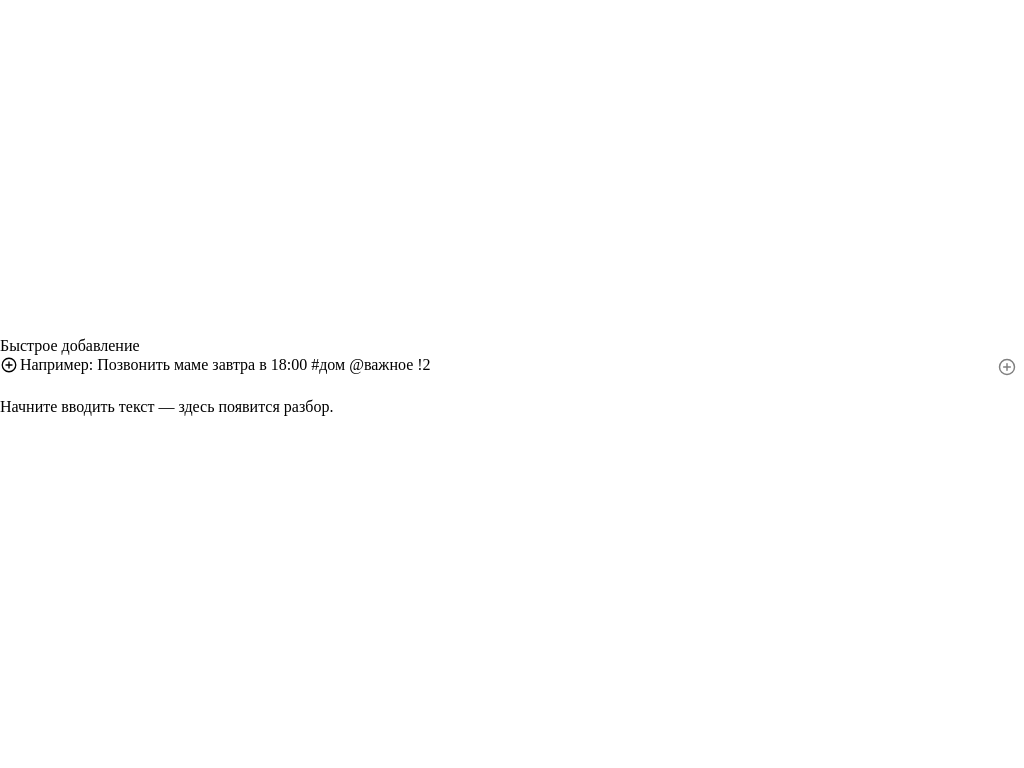
Test case: QuickAdd — NLP Parsed (M21) › снятие явного чипа возвращает исходный текст на своё место в заголовке
Type "Купить #now @потом !2" into the field named "Текст задачи".
click(504, 364); type("Купить #now @потом !2")  # box [18,354,990,374]
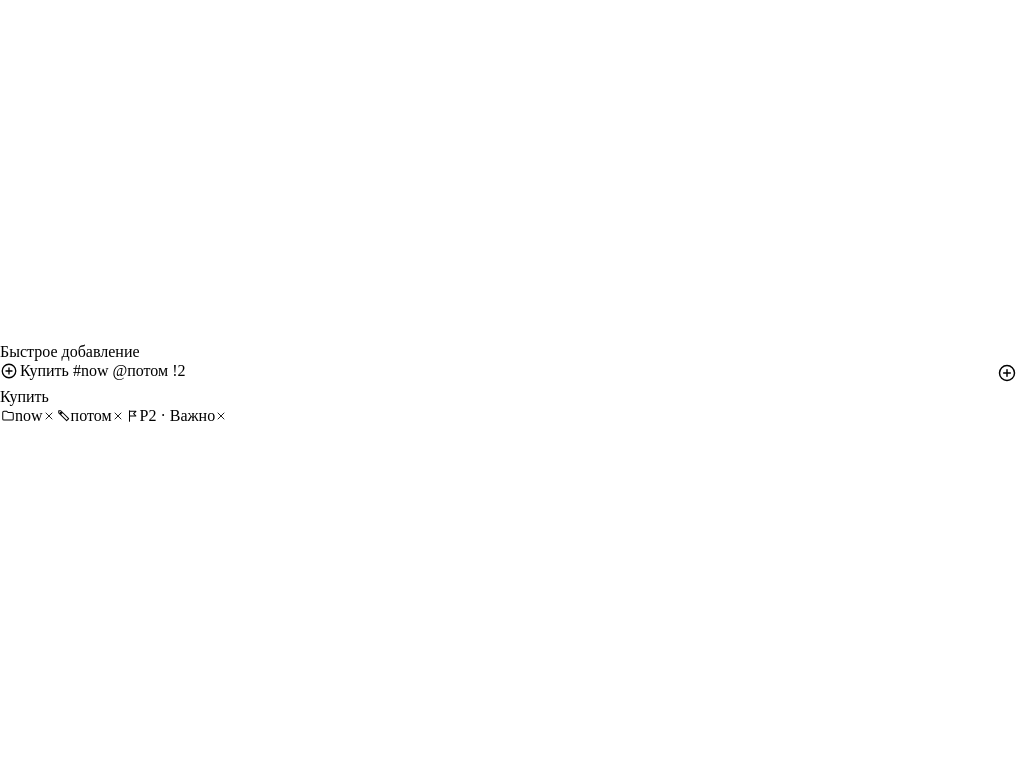
Expected: the text "now" is shown, [15,406,43,424]
Click the button named "Убрать «#now»".
click(49, 416)  # box [43,410,55,422]
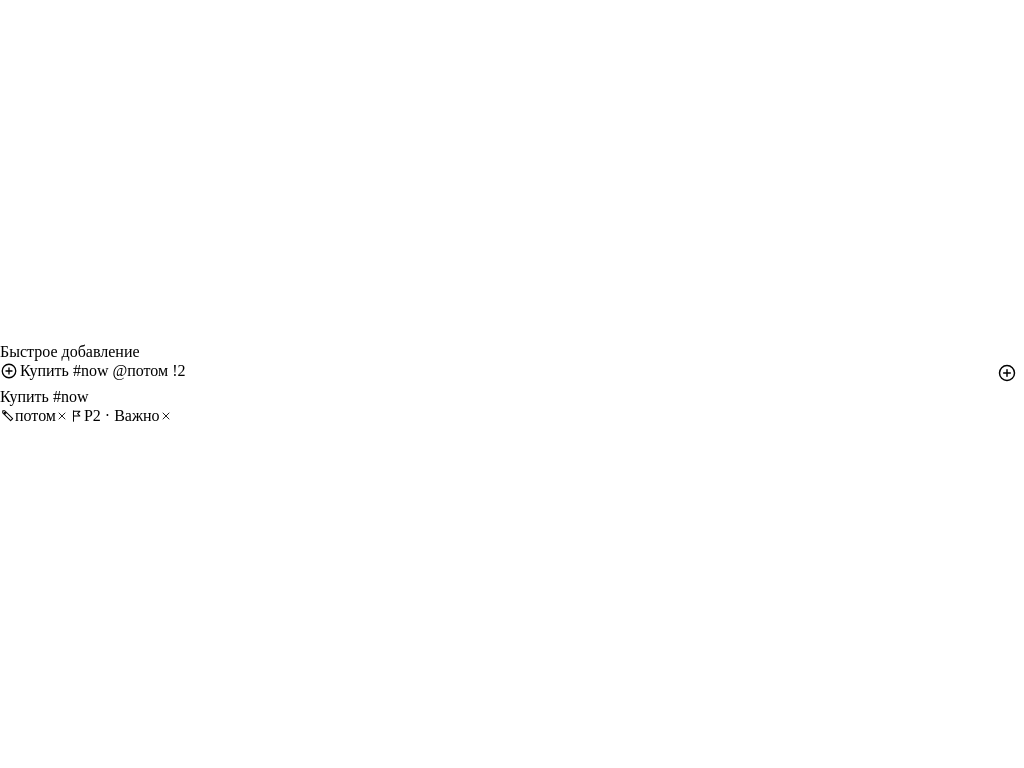
Expected: the text "Купить #now" is shown, [0,388,88,404]
